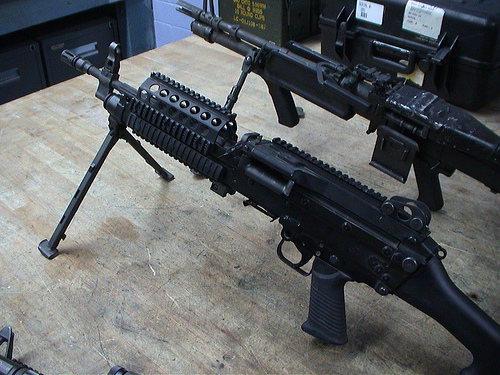rifle: (50, 42, 398, 344)
